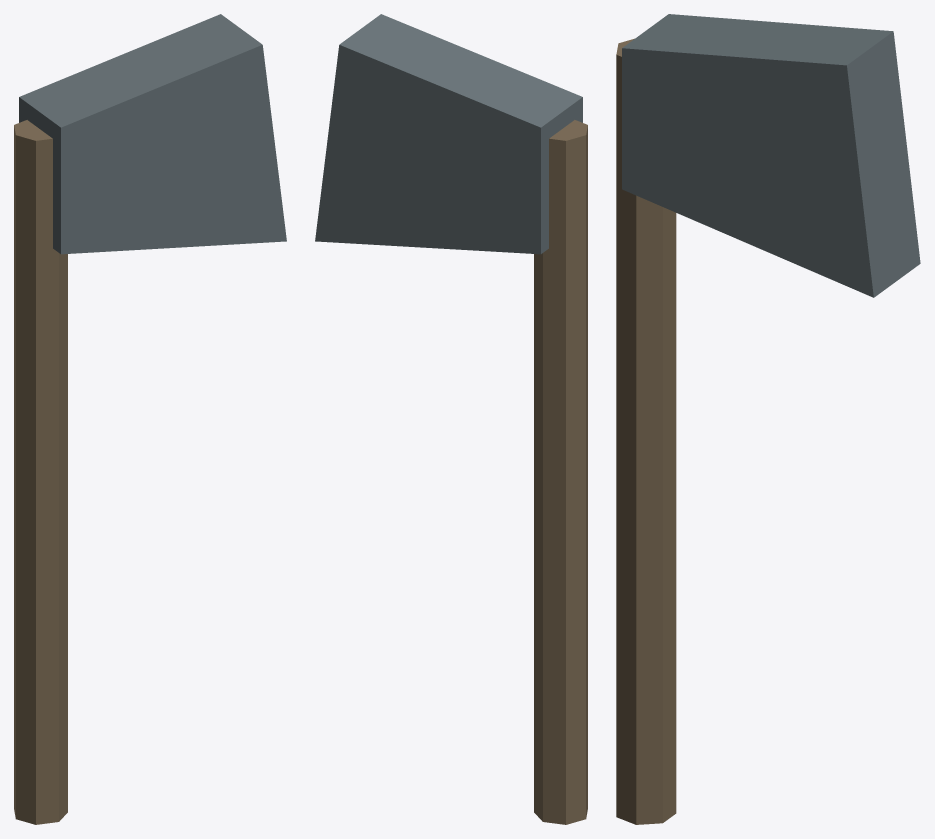
The model's file is NPC_Hand_03_Axe.glb.
The picture shows the model from 3 angles, left to right: view 1: azimuth 30°, elevation 25°; view 2: azimuth 150°, elevation 25°; view 3: azimuth 330°, elevation 25°; orthographic projection. The views are drawn at different scales.
Parts seen in each view (by area): view 1: NPC_Hand_03_Axe; view 2: NPC_Hand_03_Axe; view 3: NPC_Hand_03_Axe.
Boxes of the visible parts, <box> form: NPC_Hand_03_Axe: <box>14,14,286,824</box>; NPC_Hand_03_Axe: <box>315,14,587,824</box>; NPC_Hand_03_Axe: <box>616,14,920,824</box>.
Bounding box in the file's own units: 0.31 × 0.87 × 0.09.
